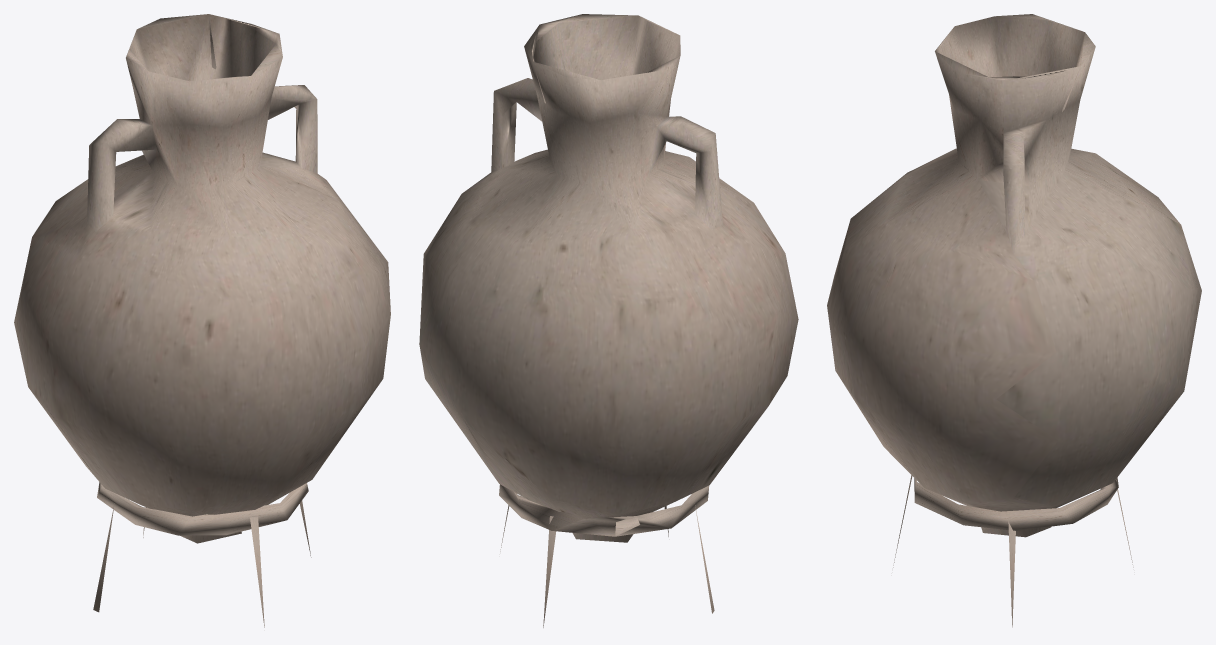
The model's file is AncientPot.obj.
3 views of the same model, side by side, from view 1: azimuth 30°, elevation 25°; view 2: azimuth 150°, elevation 25°; view 3: azimuth 270°, elevation 25° (orthographic).
Visible parts, largest first — view 1: Tube001_Untitled; view 2: Tube001_Untitled; view 3: Tube001_Untitled.
Boxes of the visible parts, left/top/right/bottom form: Tube001_Untitled: left=14, top=14, right=390, bottom=627; Tube001_Untitled: left=419, top=14, right=798, bottom=627; Tube001_Untitled: left=827, top=14, right=1201, bottom=627.
Bounding box in the file's own units: 0.3595 × 0.5622 × 0.3587.
